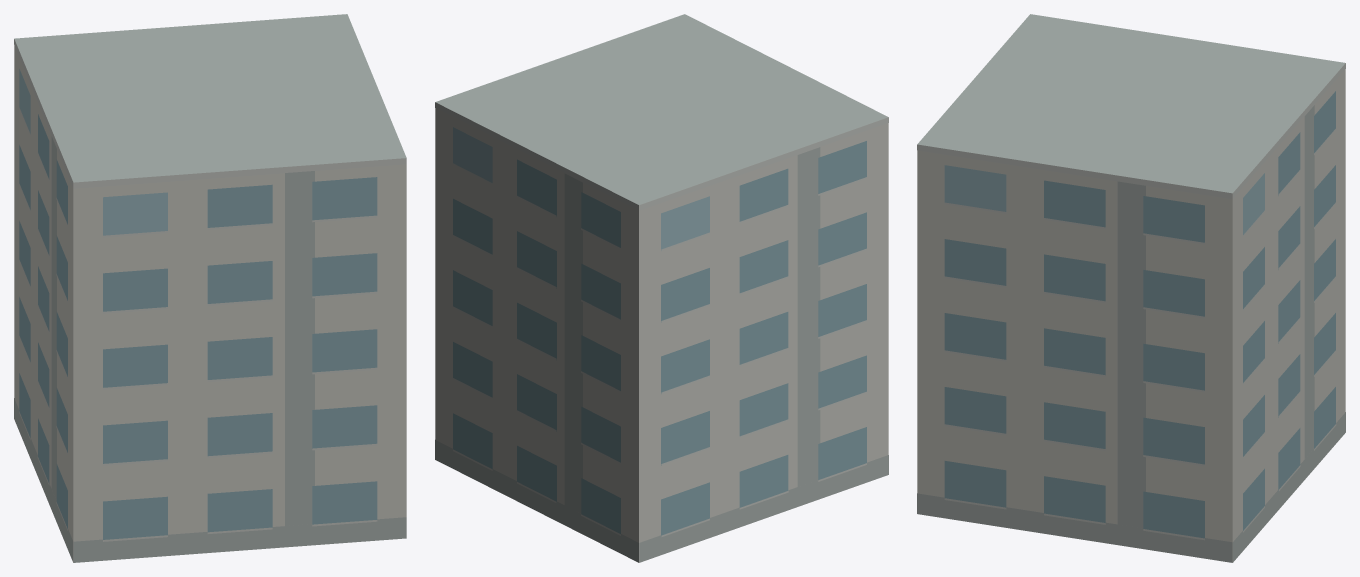
Rendered from residential-79c376d5-5f8e-4405-8e35-3009402c66c9.glb.
3 renders of one model, left to right at view 1: azimuth 30°, elevation 25°; view 2: azimuth 150°, elevation 25°; view 3: azimuth 270°, elevation 25°, orthographic. The views are drawn at different scales.
Parts seen in each view (by area): view 1: residential-79c376d5-5f8e-4405-8e35-3009402c66c9.tmp; view 2: residential-79c376d5-5f8e-4405-8e35-3009402c66c9.tmp; view 3: residential-79c376d5-5f8e-4405-8e35-3009402c66c9.tmp.
Part boxes in pixels (x1,y1,x2,y2): residential-79c376d5-5f8e-4405-8e35-3009402c66c9.tmp: (14, 14, 406, 562); residential-79c376d5-5f8e-4405-8e35-3009402c66c9.tmp: (435, 14, 888, 562); residential-79c376d5-5f8e-4405-8e35-3009402c66c9.tmp: (917, 14, 1345, 562).
Size of the model in its own units: 15.88 by 15.25 by 16.04.
